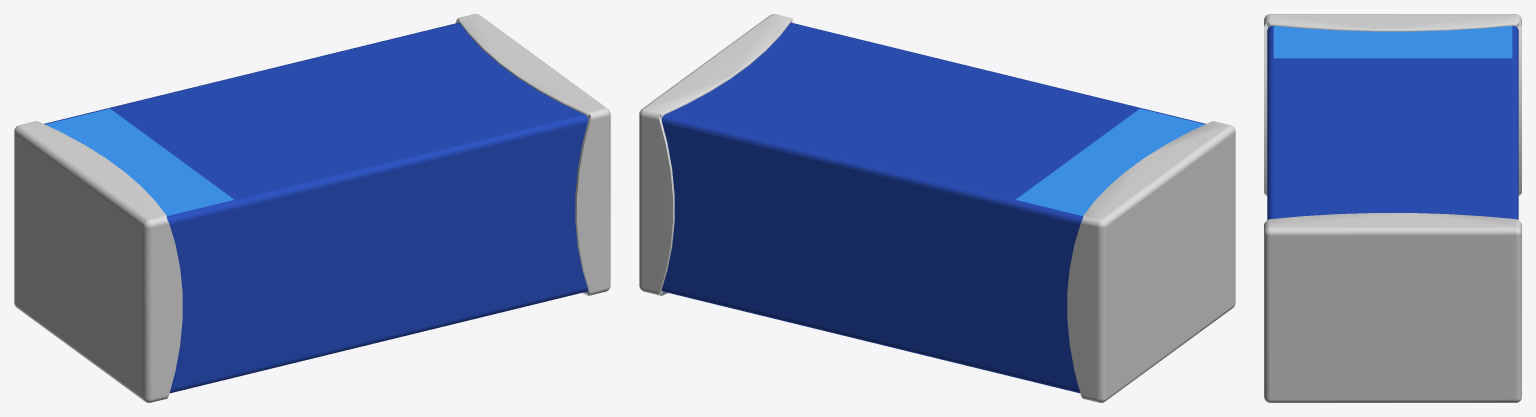
3 renders of one model, left to right at view 1: azimuth 30°, elevation 25°; view 2: azimuth 150°, elevation 25°; view 3: azimuth 270°, elevation 25°, orthographic. The views are drawn at different scales.
Parts seen in each view (by area): view 1: =>[0:1:1:3]; view 2: =>[0:1:1:3]; view 3: =>[0:1:1:3].
Part boxes in pixels (x1,y1,x2,y2): =>[0:1:1:3]: (14,14,610,402); =>[0:1:1:3]: (639,14,1235,402); =>[0:1:1:3]: (1264,14,1521,402).
Size of the model in its own units: 0.0032 by 0.0012 by 0.0016.
